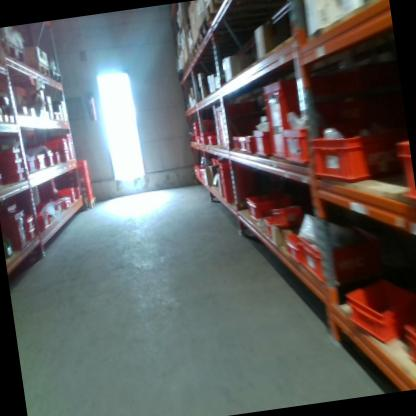pallet: (203, 0, 234, 27), (0, 36, 25, 65), (197, 15, 214, 48), (25, 60, 50, 79), (185, 44, 197, 69), (193, 35, 203, 60), (49, 69, 62, 83), (87, 197, 97, 209)
small_load_carrier: (256, 70, 344, 170), (307, 120, 399, 194), (337, 269, 416, 351), (296, 222, 380, 291), (274, 123, 312, 178), (241, 190, 290, 225), (216, 157, 249, 207), (393, 134, 416, 201), (395, 319, 416, 389), (0, 208, 30, 256), (269, 201, 312, 231), (284, 230, 309, 265), (33, 193, 65, 218), (261, 214, 291, 240), (211, 99, 255, 116), (249, 129, 270, 162), (212, 111, 256, 125), (57, 133, 74, 163), (214, 121, 252, 134), (41, 137, 68, 154), (0, 156, 23, 172), (0, 146, 23, 161), (2, 168, 25, 183), (24, 224, 38, 246), (44, 151, 57, 173), (216, 134, 234, 149), (243, 135, 255, 157), (56, 185, 74, 199), (77, 180, 93, 195), (26, 153, 38, 173), (236, 131, 246, 154), (35, 151, 47, 170), (81, 190, 96, 205), (38, 213, 52, 229), (25, 212, 37, 230), (74, 157, 88, 172), (75, 171, 91, 183), (49, 152, 61, 168), (58, 150, 70, 165), (62, 196, 72, 209), (232, 135, 240, 150), (206, 134, 215, 147), (0, 170, 4, 192), (70, 194, 77, 202)
